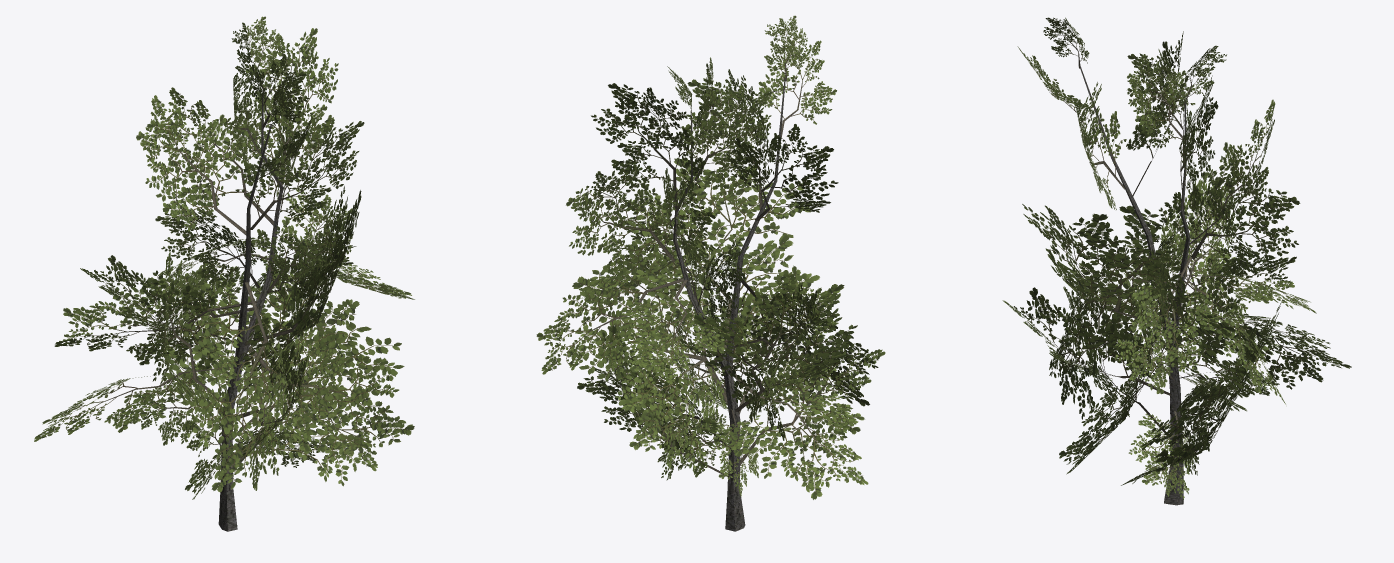
The model's file is Tree-01-4.gltf.
3 renders of one model, left to right at view 1: azimuth 30°, elevation 25°; view 2: azimuth 150°, elevation 25°; view 3: azimuth 270°, elevation 25°, orthographic. The views are drawn at different scales.
Parts seen in each view (by area): view 1: Tree-01-4; view 2: Tree-01-4; view 3: Tree-01-4.
Boxes of the visible parts, bbox=[...] form: Tree-01-4: bbox=[34, 16, 414, 531]; Tree-01-4: bbox=[536, 15, 885, 531]; Tree-01-4: bbox=[1002, 17, 1351, 505].
Bounding box in the file's own units: 4.72 × 5.41 × 4.02.
Materials: 3 (3 with a texture image).
